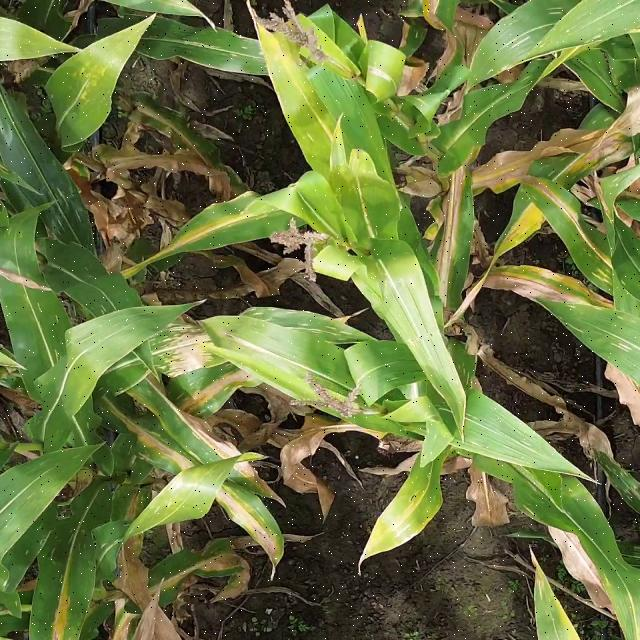gray-leaf-spot: (258, 304, 357, 345), (81, 308, 153, 358), (5, 226, 45, 314), (566, 304, 636, 354), (497, 10, 568, 58), (31, 180, 89, 238), (47, 524, 94, 593), (24, 452, 82, 501), (600, 457, 640, 527), (160, 326, 218, 370), (164, 462, 212, 514), (573, 246, 623, 288), (450, 358, 481, 394)
northern-leaf-blight: (151, 548, 241, 598), (115, 408, 182, 468), (528, 180, 590, 240), (560, 123, 630, 175), (181, 367, 248, 414), (172, 213, 250, 249), (360, 57, 405, 90)
southern-leaf-blight: (177, 27, 266, 71), (64, 55, 115, 112)
